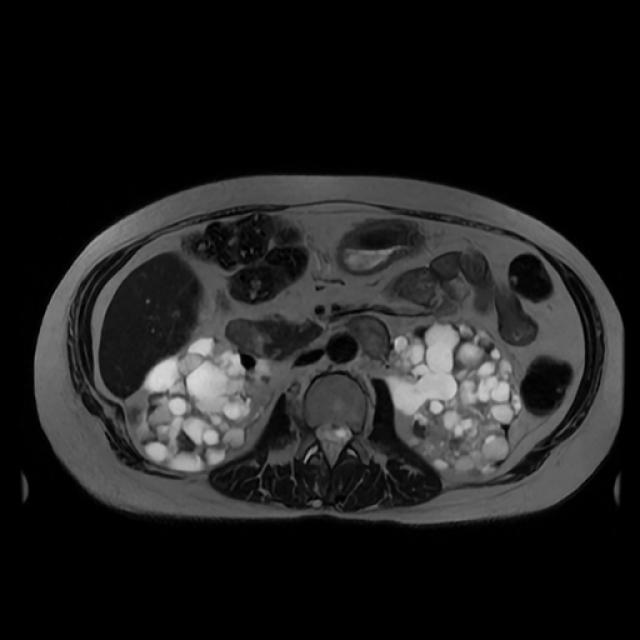sag: (135, 337, 275, 472)
sol: (387, 317, 520, 478)
